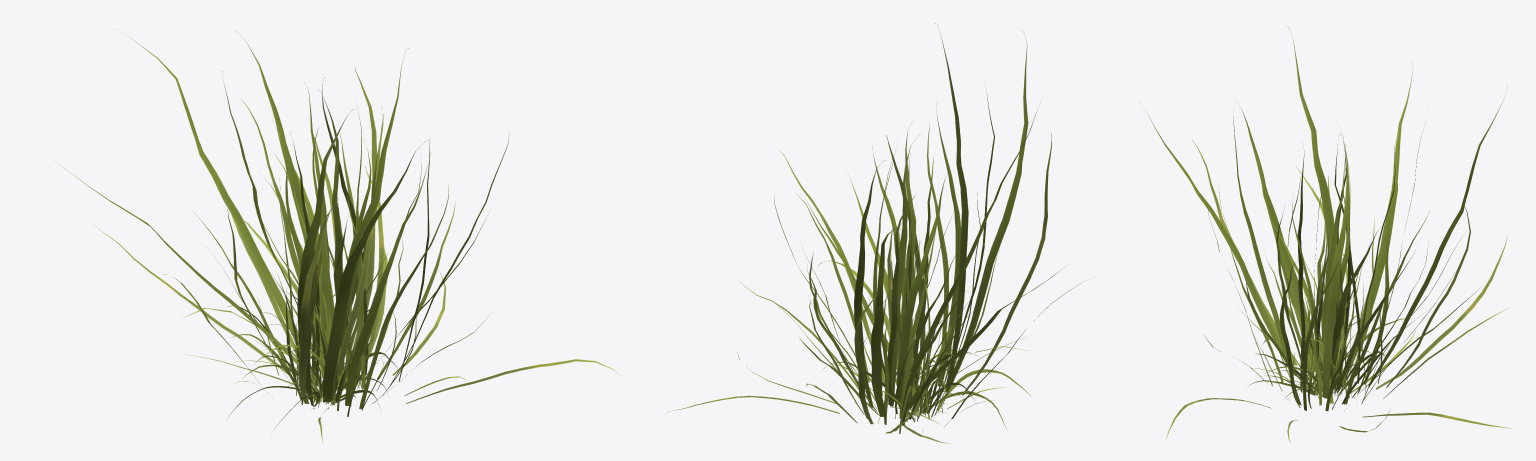
Rendered from grass.glb.
3 views of the same model, side by side, from view 1: azimuth 30°, elevation 25°; view 2: azimuth 150°, elevation 25°; view 3: azimuth 270°, elevation 25° (orthographic). The views are drawn at different scales.
Visible parts, largest first — view 1: tuft, sprig; view 2: tuft, sprig; view 3: tuft, sprig.
Boxes of the visible parts, x1,y1,x2,y2 form: tuft: (56, 29, 619, 442); sprig: (228, 292, 397, 430); tuft: (667, 23, 1088, 443); sprig: (830, 319, 1031, 429); tuft: (1144, 26, 1511, 442); sprig: (1249, 309, 1410, 398).
Size of the model in its own units: 0.6909 by 0.57 by 0.5969.
3 materials, 3 textured.
